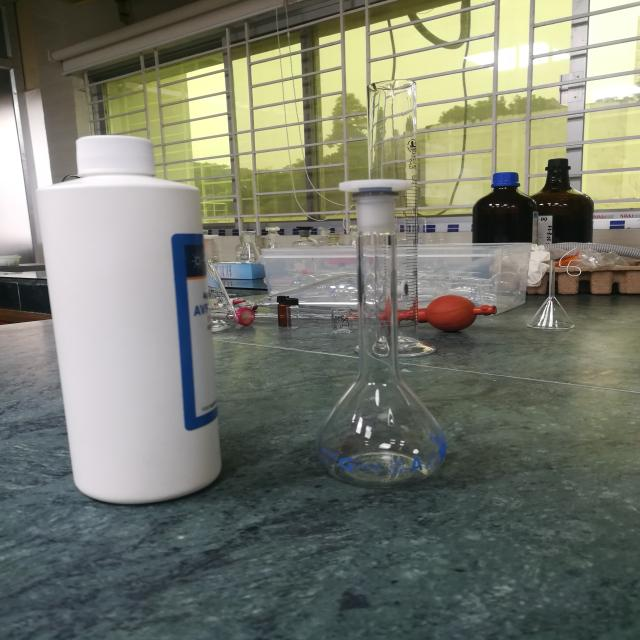Volumetric_Flask: (287, 163, 483, 502)
